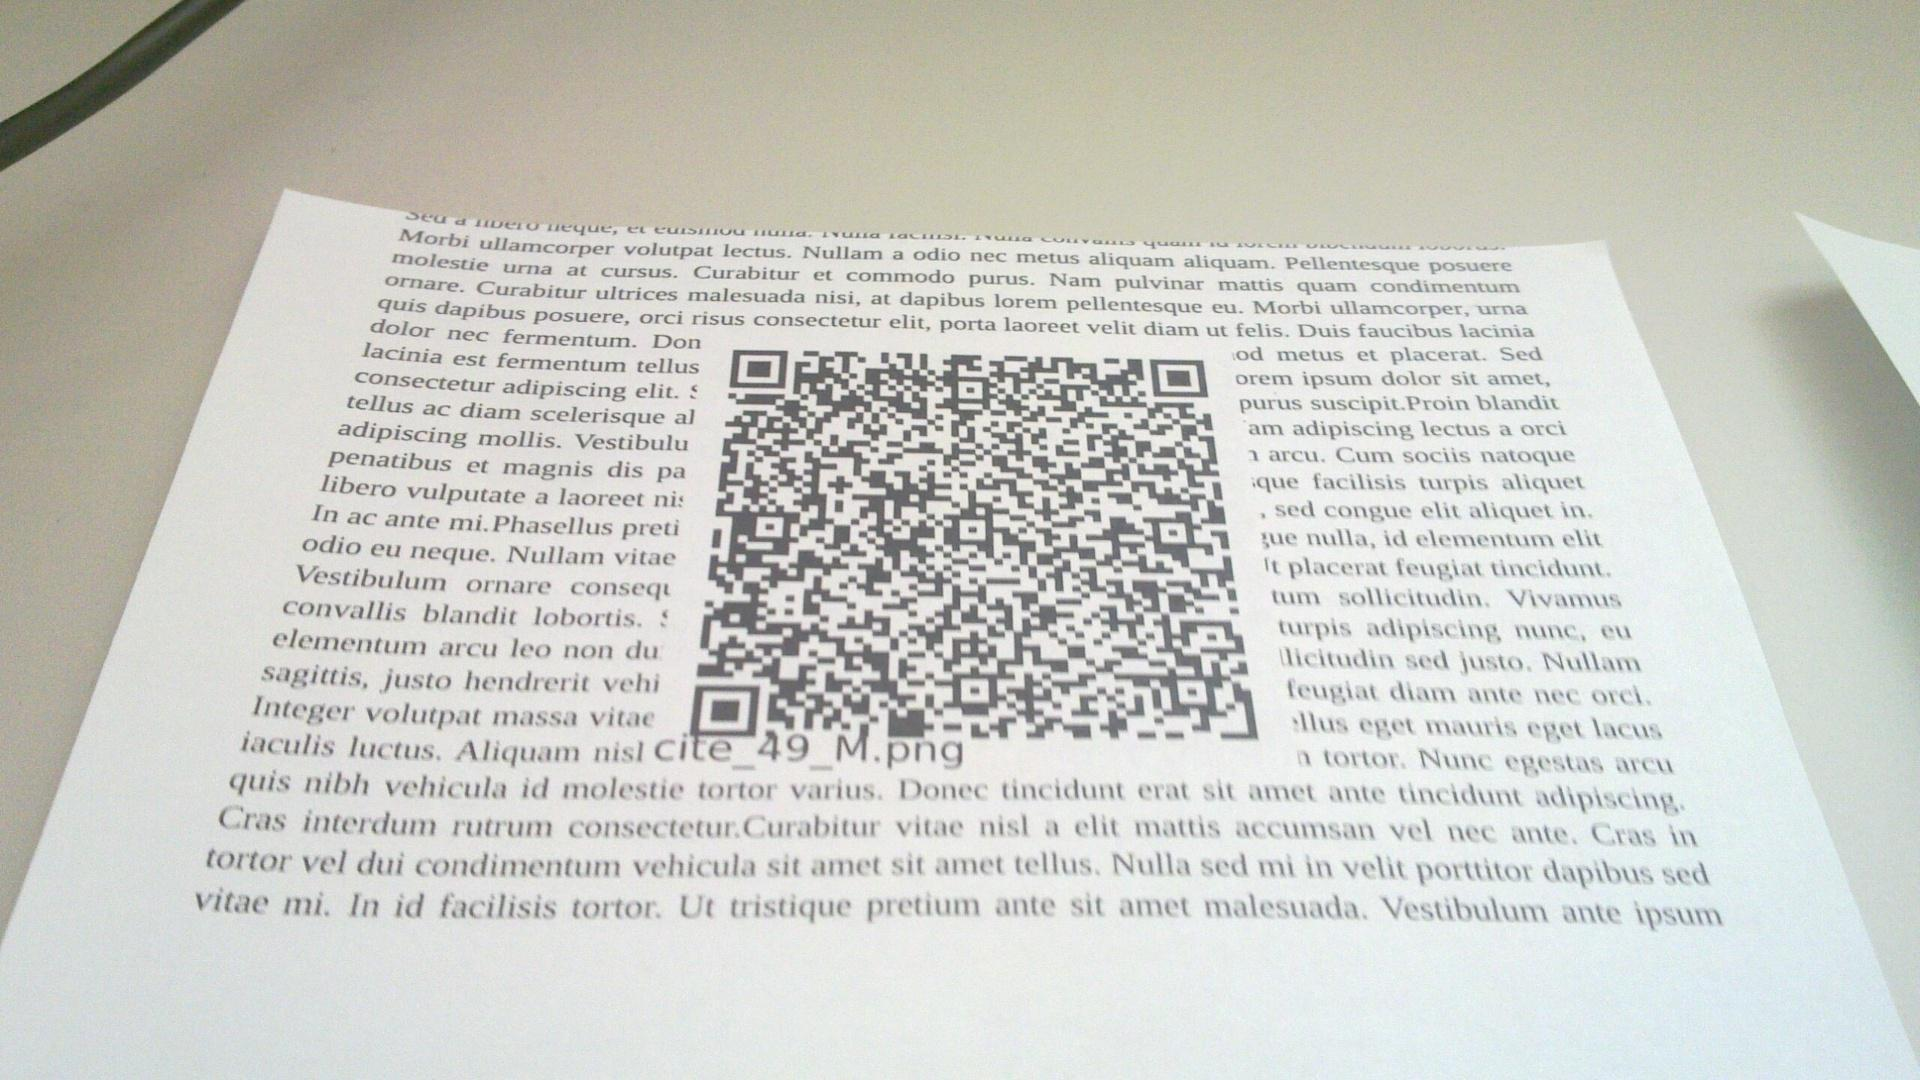Finder pattern: (686, 680, 762, 742), (723, 344, 793, 392), (1145, 353, 1211, 400)
